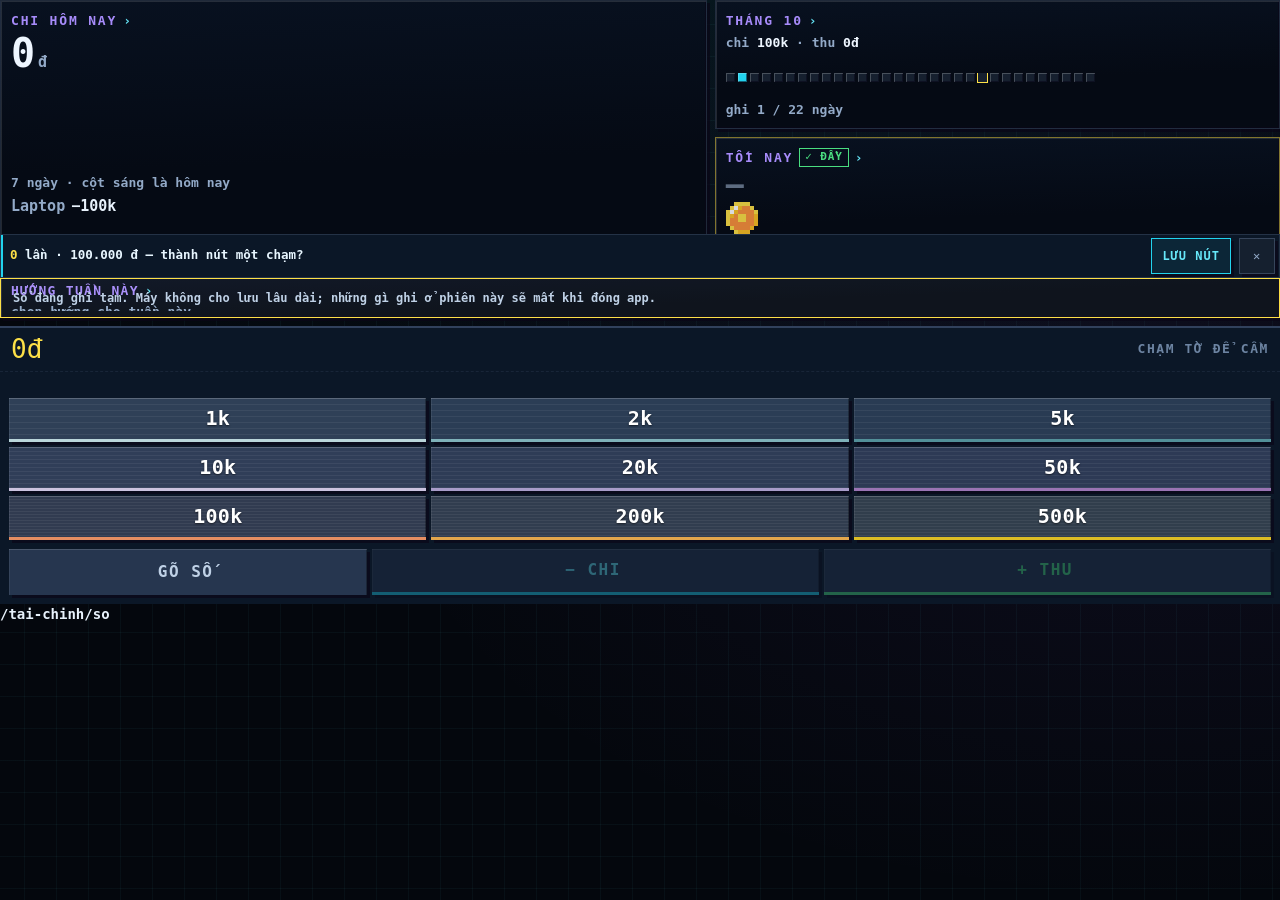
Test case: §VI-quater — ⭐⭐ cú NẢY chỉ ở khoảnh khắc VỪA đầy › ⭐⭐ mở màn với hũ ĐÃ đầy sẵn ⇒ KHÔNG nảy
This screenshot has width=1280, height=900.
expect the element with test id "so-hom-nay" does not show "—": met
expect the text "100k" is shown: met, box [757, 34, 788, 50]
What coordinates should you click on to do the following:
click the button "TỐI NAY ✓ ĐẦY › — đã chia hết"
I would click on:
 (759, 157)
Its box is [715, 137, 1279, 266].
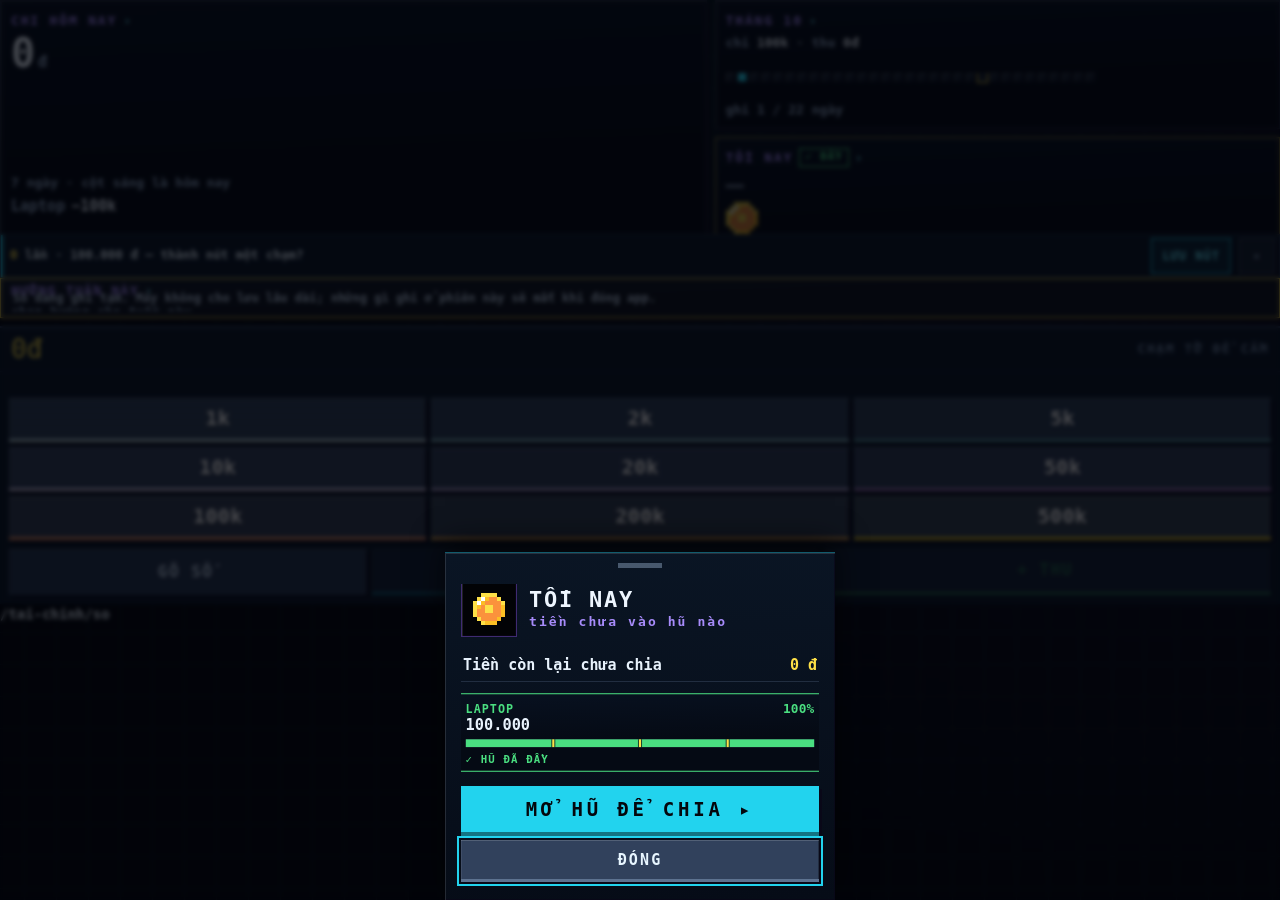
expect the button "LAPTOP 100% 100.000 ✓ HŨ ĐÃ ĐẦY" is shown: met, box [461, 693, 819, 772]
